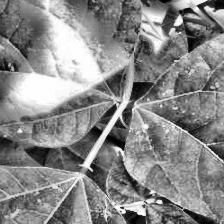ALS: (0, 0, 139, 142), (127, 32, 224, 224), (0, 161, 149, 224)
